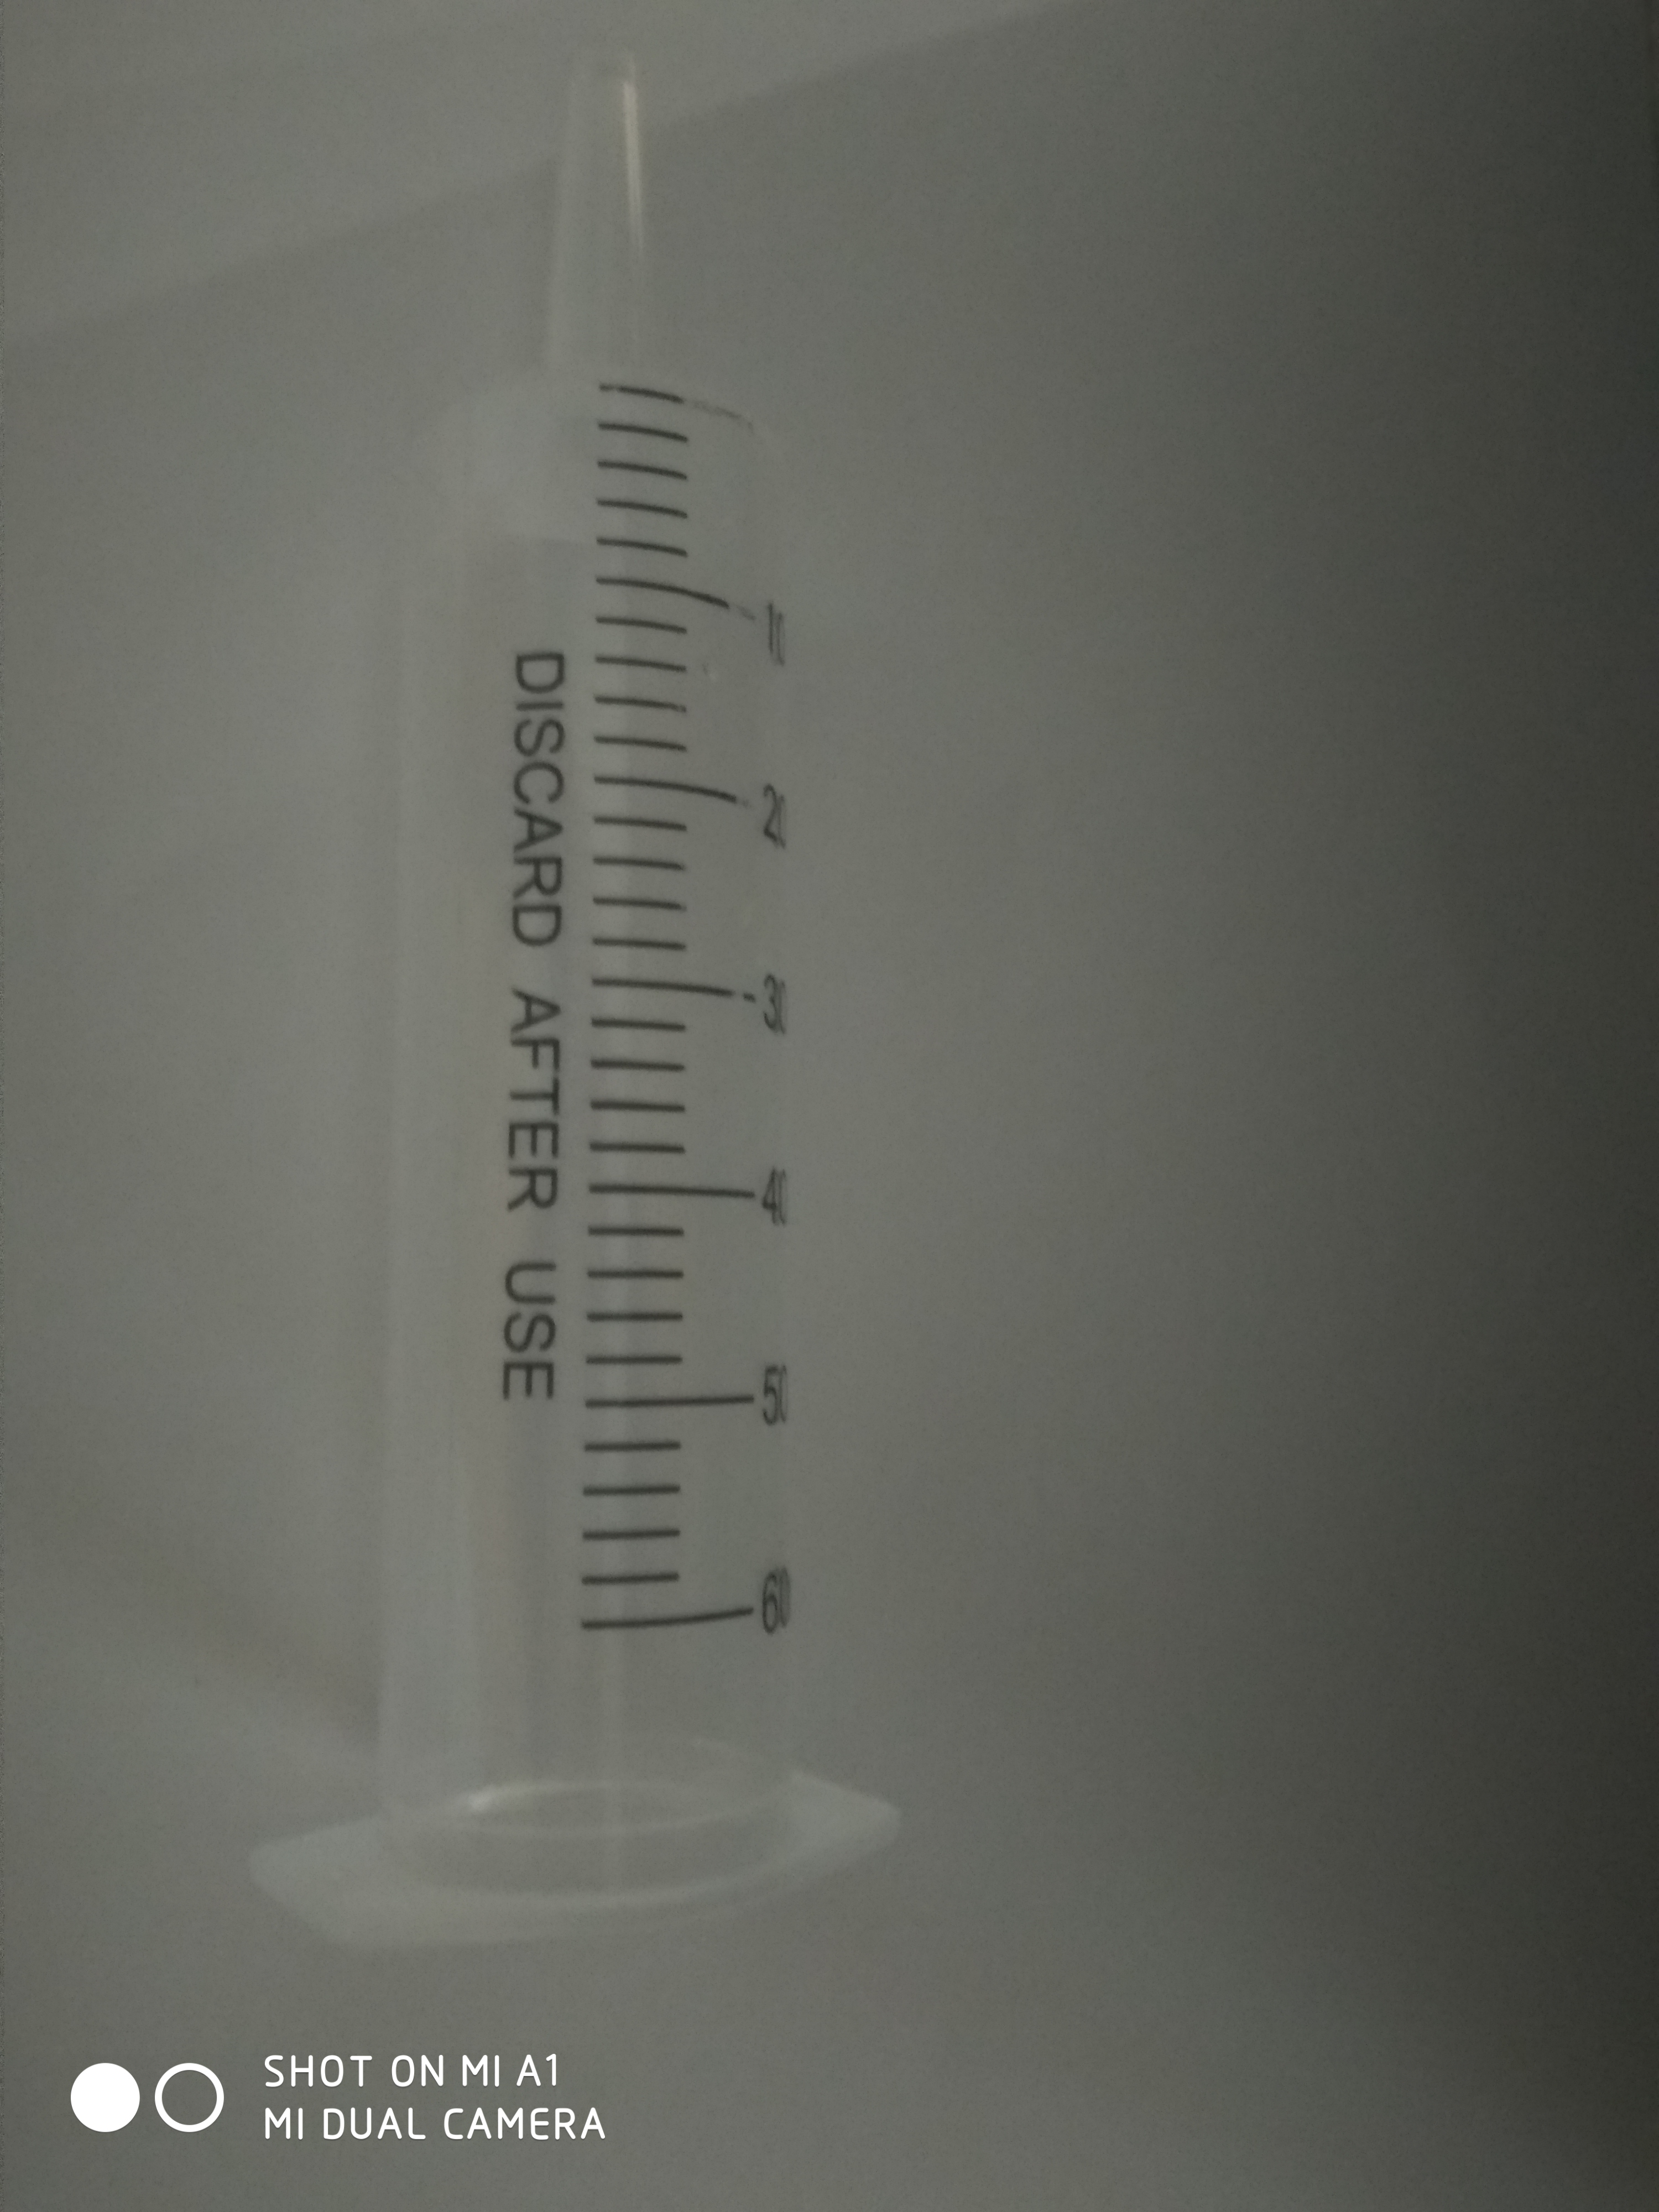syringe: (228, 42, 924, 1949)
